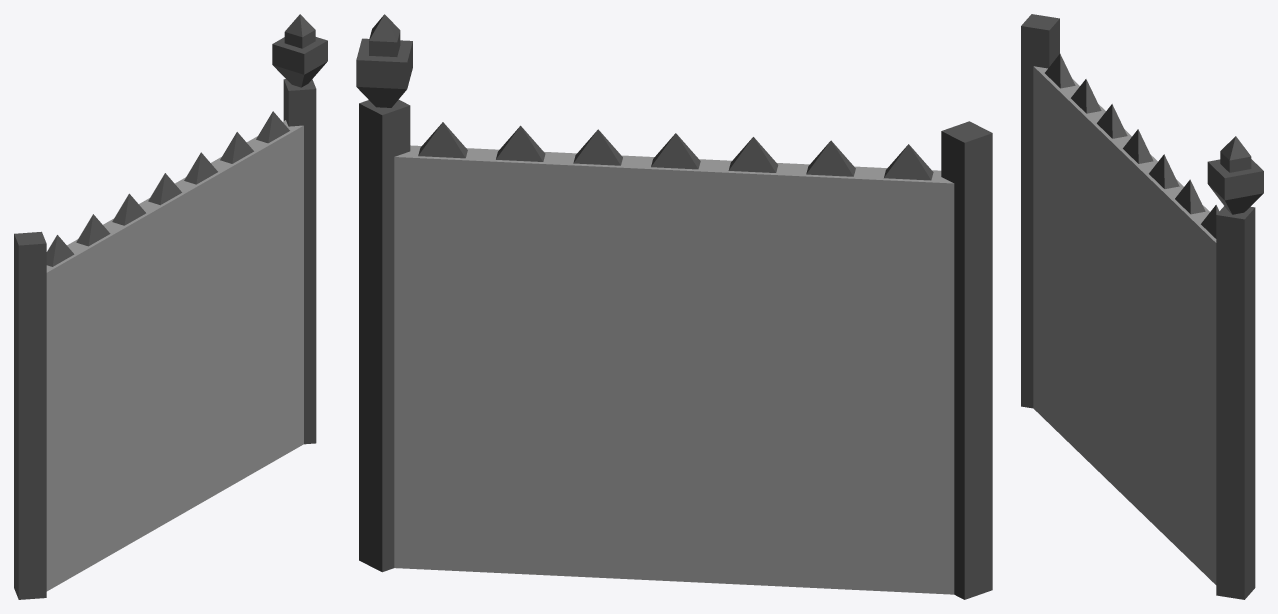
File: STONE WALL 1.fbx
3 renders of one model, left to right at view 1: azimuth 30°, elevation 25°; view 2: azimuth 150°, elevation 25°; view 3: azimuth 270°, elevation 25°, orthographic. The views are drawn at different scales.
Parts seen in each view (by area): view 1: STONE_WALL_1; view 2: STONE_WALL_1; view 3: STONE_WALL_1.
Part boxes in pixels (x1,y1,x2,y2): STONE_WALL_1: [14, 14, 327, 599]; STONE_WALL_1: [356, 14, 992, 599]; STONE_WALL_1: [1021, 14, 1263, 599].
Bounding box in the file's own units: 333 × 338 × 163.
Materials: 1 (1 with a texture image).
